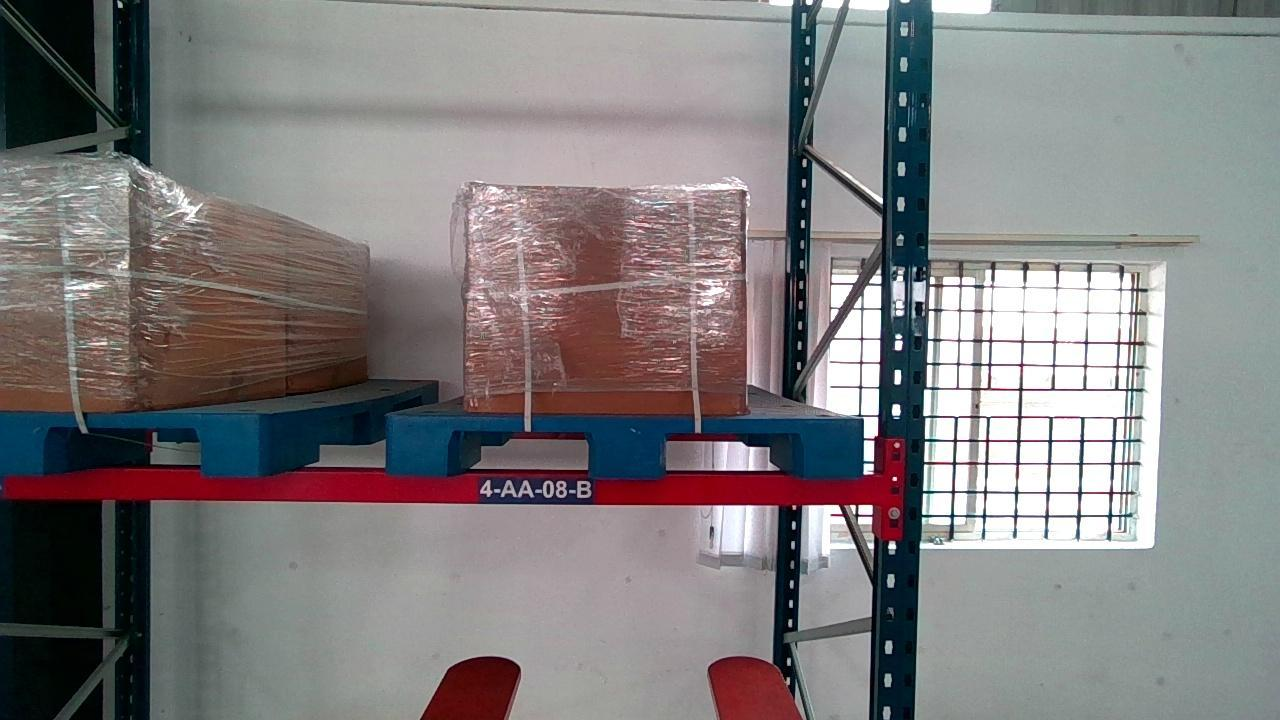h_rack: (3, 471, 880, 502)
small_pallet: (387, 414, 867, 476), (2, 414, 269, 477)
